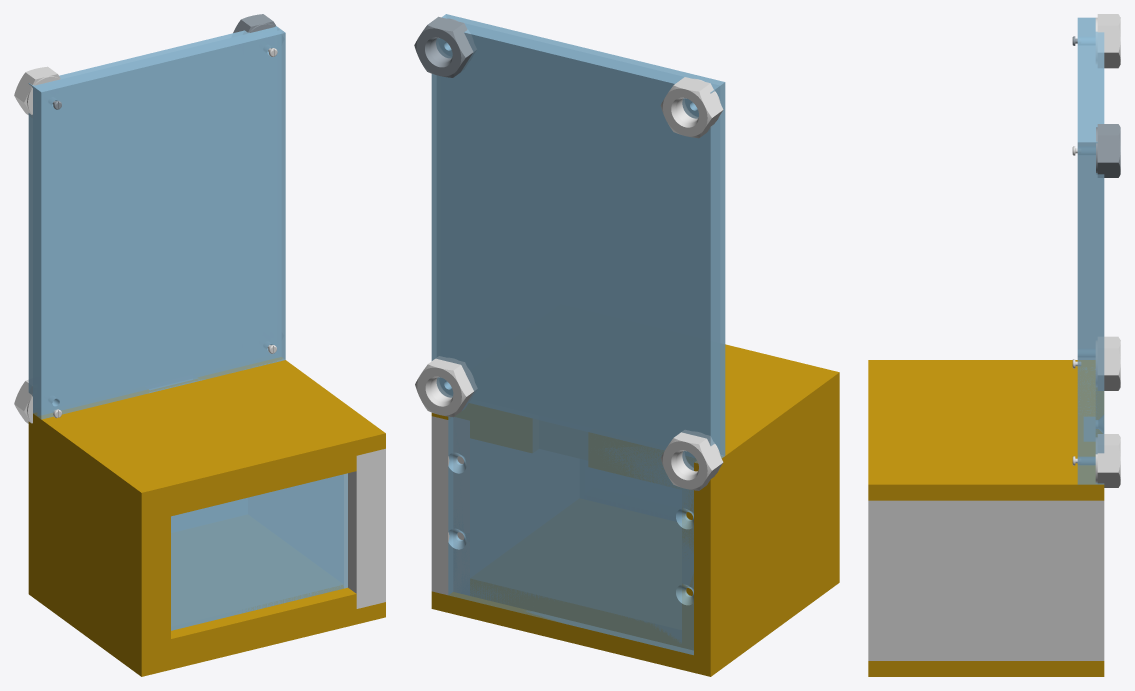
The model's file is coin-box.fbx.
The picture shows the model from 3 angles, left to right: view 1: azimuth 30°, elevation 25°; view 2: azimuth 150°, elevation 25°; view 3: azimuth 270°, elevation 25°; orthographic projection. The views are drawn at different scales.
Visible parts, largest first — view 1: front-plate <1>, middle-plaate <1>, top <1>, side1 <1>, Box face <1>, bottom <1>, side1 <2>, back-plate <1>, Hex nut grade A & B ISO 4032 <1>, Hex nut grade A & B ISO 4032 <3>, Hex nut grade A & B ISO 4032 <2>; view 2: back-plate <1>, side1 <1>, top <1>, middle-plaate <1>, bottom <1>, side1 <2>, front-plate <1>, Hex nut grade A & B ISO 4032 <1>, Hex nut grade A & B ISO 4032 <2>, Hex nut grade A & B ISO 4032 <4>, Hex nut grade A & B ISO 4032 <3>; view 3: side1 <2>, top <1>, middle-plaate <1>, front-plate <1>, back-plate <1>, bottom <1>, Hex nut grade A & B ISO 4032 <1>, Hex nut grade A & B ISO 4032 <3>, Hex nut grade A & B ISO 4032 <2>, Hex nut grade A & B ISO 4032 <4>.
Boxes of the visible parts, x1=… form: front-plate <1>: x1=37, y1=29, x2=285, y2=419; middle-plaate <1>: x1=33, y1=26, x2=280, y2=415; top <1>: x1=28, y1=357, x2=385, y2=516; side1 <1>: x1=28, y1=426, x2=170, y2=661; Box face <1>: x1=171, y1=473, x2=347, y2=630; bottom <1>: x1=28, y1=579, x2=385, y2=676; side1 <2>: x1=344, y1=448, x2=385, y2=608; back-plate <1>: x1=28, y1=26, x2=276, y2=396; Hex nut grade A & B ISO 4032 <1>: x1=14, y1=66, x2=60, y2=117; Hex nut grade A & B ISO 4032 <3>: x1=14, y1=379, x2=32, y2=423; Hex nut grade A & B ISO 4032 <2>: x1=233, y1=14, x2=275, y2=34; back-plate <1>: x1=431, y1=28, x2=715, y2=655; side1 <1>: x1=682, y1=390, x2=839, y2=659; top <1>: x1=431, y1=344, x2=839, y2=483; middle-plaate <1>: x1=445, y1=23, x2=720, y2=453; bottom <1>: x1=431, y1=565, x2=839, y2=676; side1 <2>: x1=431, y1=416, x2=469, y2=595; front-plate <1>: x1=442, y1=14, x2=725, y2=458; Hex nut grade A & B ISO 4032 <1>: x1=660, y1=77, x2=723, y2=138; Hex nut grade A & B ISO 4032 <2>: x1=414, y1=16, x2=476, y2=77; Hex nut grade A & B ISO 4032 <4>: x1=415, y1=356, x2=477, y2=417; Hex nut grade A & B ISO 4032 <3>: x1=660, y1=430, x2=723, y2=490; side1 <2>: x1=868, y1=500, x2=1104, y2=660; top <1>: x1=868, y1=360, x2=1104, y2=500; middle-plaate <1>: x1=1086, y1=17, x2=1095, y2=484; front-plate <1>: x1=1077, y1=17, x2=1086, y2=484; back-plate <1>: x1=1095, y1=31, x2=1104, y2=484; bottom <1>: x1=868, y1=661, x2=1104, y2=676; Hex nut grade A & B ISO 4032 <1>: x1=1095, y1=14, x2=1120, y2=68; Hex nut grade A & B ISO 4032 <3>: x1=1096, y1=336, x2=1120, y2=390; Hex nut grade A & B ISO 4032 <2>: x1=1096, y1=124, x2=1120, y2=177; Hex nut grade A & B ISO 4032 <4>: x1=1095, y1=434, x2=1120, y2=487.
Size of the model in its own units: 0.1067 by 0.202 by 0.0855.
